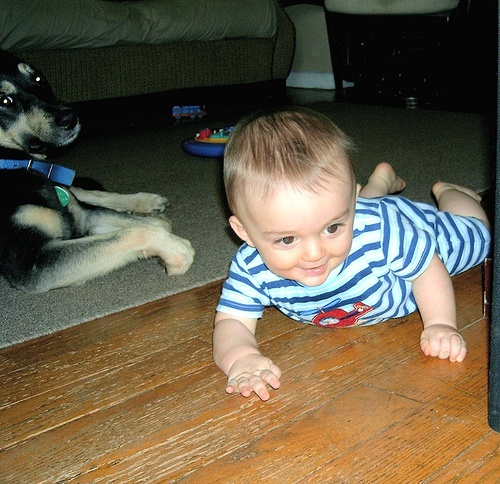head: (223, 107, 358, 287)
person: (206, 109, 492, 402)
